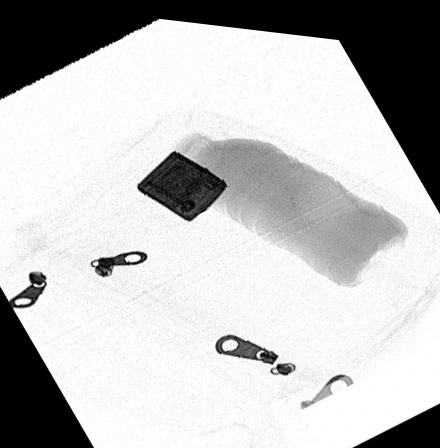Lighter: (136, 144, 226, 217)
